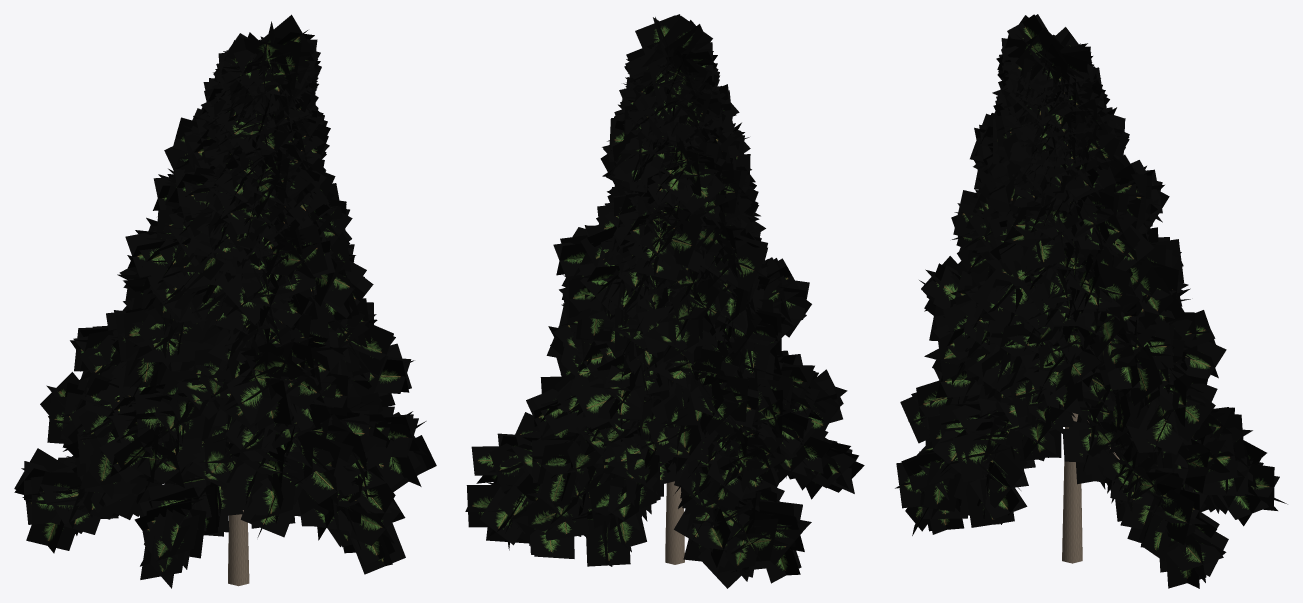
Rendered from conifer-lod0.glb.
3 renders of one model, left to right at view 1: azimuth 30°, elevation 25°; view 2: azimuth 150°, elevation 25°; view 3: azimuth 270°, elevation 25°, orthographic. The views are drawn at different scales.
Visible parts, largest first — view 1: SM_AtlasEzConifer; view 2: SM_AtlasEzConifer; view 3: SM_AtlasEzConifer.
Part boxes in pixels (x1,y1,x2,y2): SM_AtlasEzConifer: (14, 14, 436, 588); SM_AtlasEzConifer: (465, 14, 864, 588); SM_AtlasEzConifer: (895, 14, 1287, 588).
Size of the model in its own units: 10.09 by 15.96 by 10.39.
Materials: 2 (2 with a texture image).
